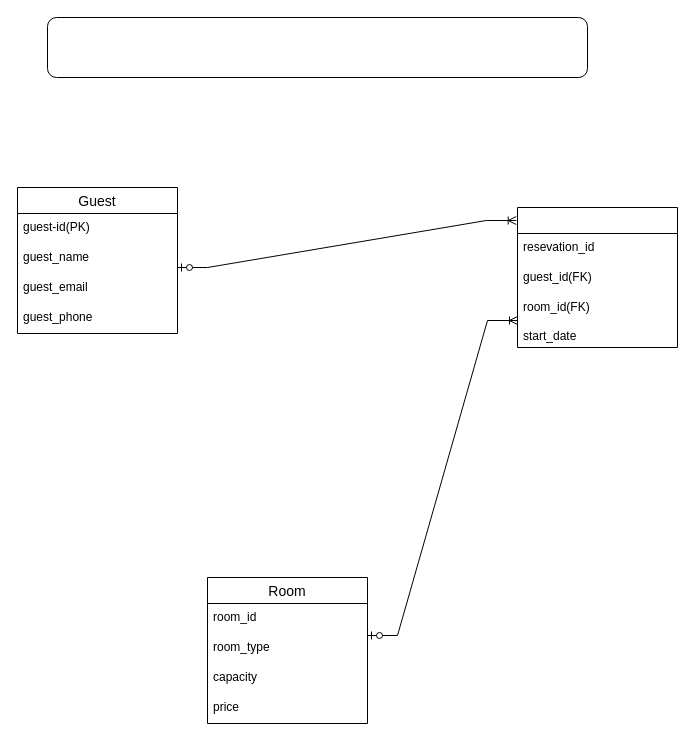
The diagram is 695 pixels wide and 744 high, and some of its shapes have lost their labels. Here are the shapes that lost their labels. From the top down, the box of each, then its label:
(46, 16, 588, 78): Hotel Room Reservation ER Diagram
(516, 206, 678, 348): Reservation
